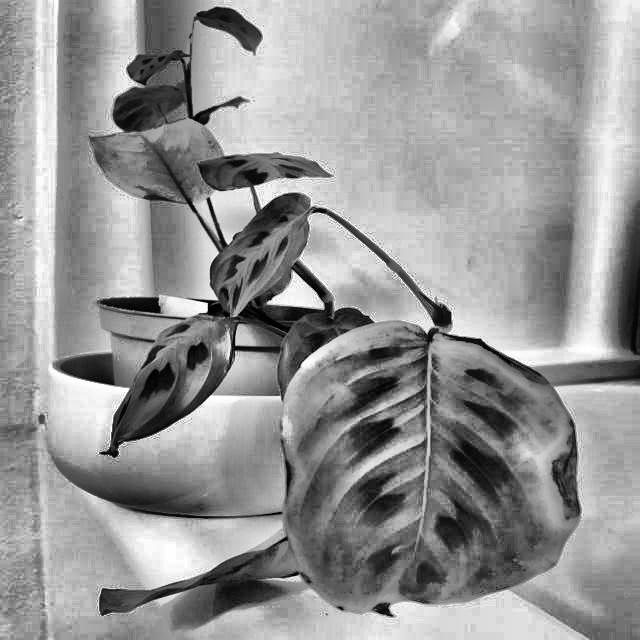plants: (108, 6, 592, 630), (267, 302, 589, 629), (82, 101, 235, 210)
